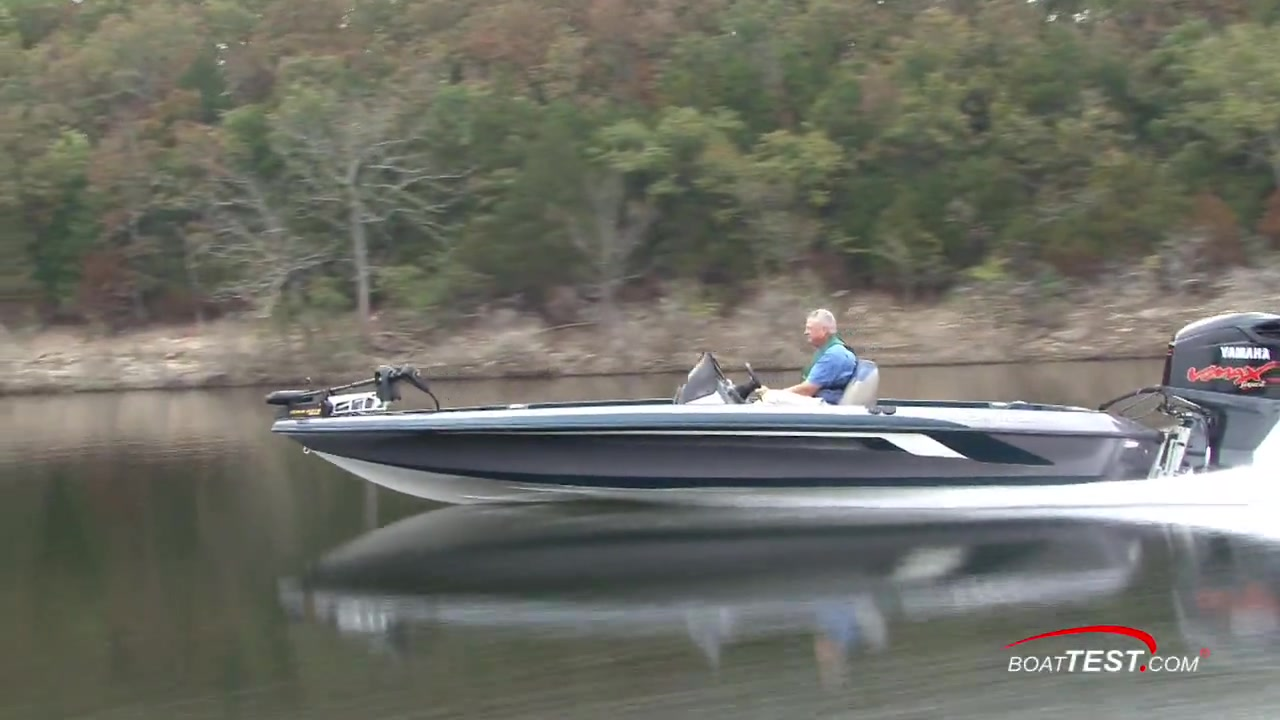boat: (269, 312, 1279, 496)
